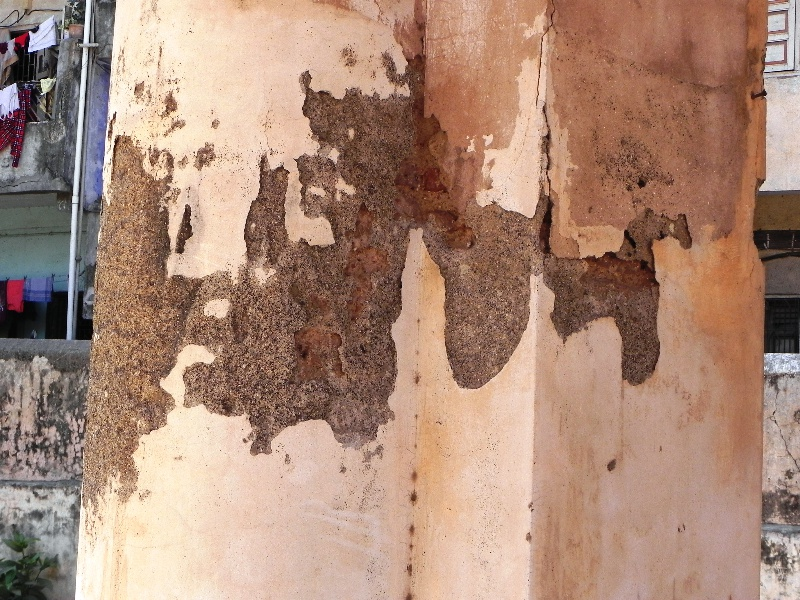Spalling: (203, 61, 532, 465), (86, 133, 202, 499), (535, 190, 697, 393)
